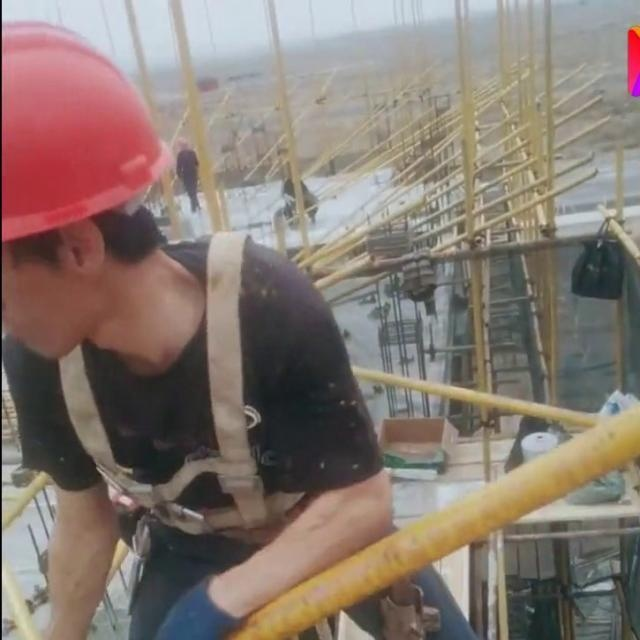Arnes_seguridad: (35, 223, 312, 535)
